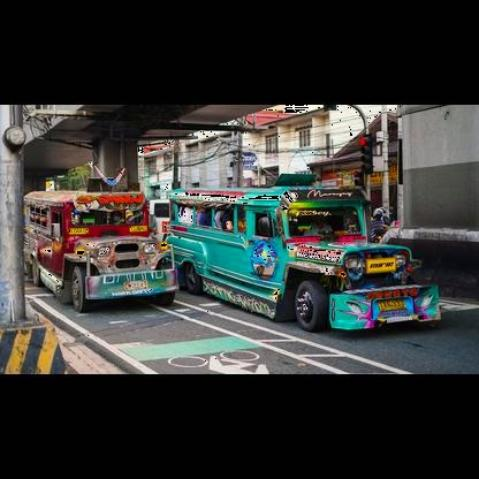jeepney: (155, 172, 463, 335), (15, 162, 163, 312)
